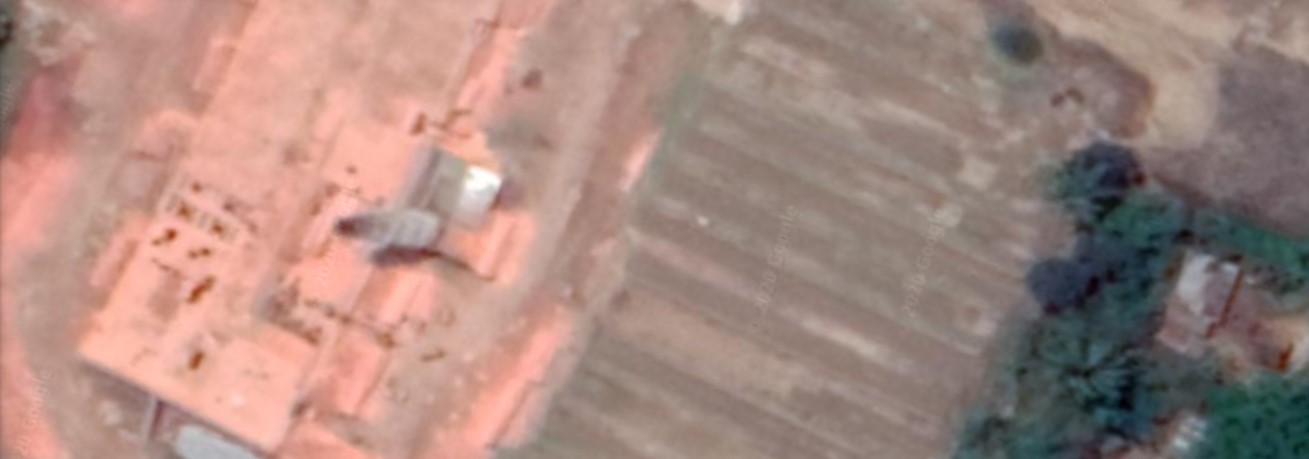kiln: (131, 52, 587, 413)
